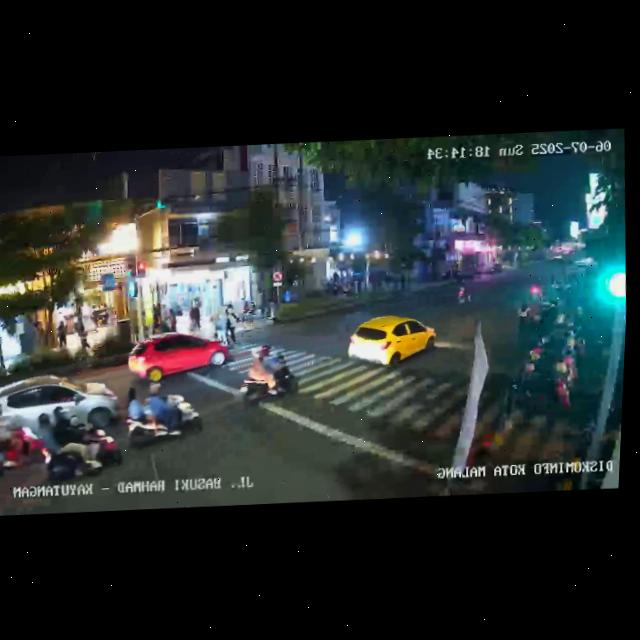car: (0, 374, 124, 454), (126, 329, 228, 389), (341, 312, 439, 373)
motorcycle: (35, 403, 123, 491), (120, 380, 207, 454), (236, 343, 299, 413), (0, 406, 43, 482), (519, 284, 552, 330), (454, 278, 472, 307)
person: (515, 300, 533, 335), (225, 305, 240, 343), (210, 308, 225, 342), (77, 320, 92, 354), (189, 299, 204, 331), (56, 317, 70, 349), (168, 305, 179, 332)
